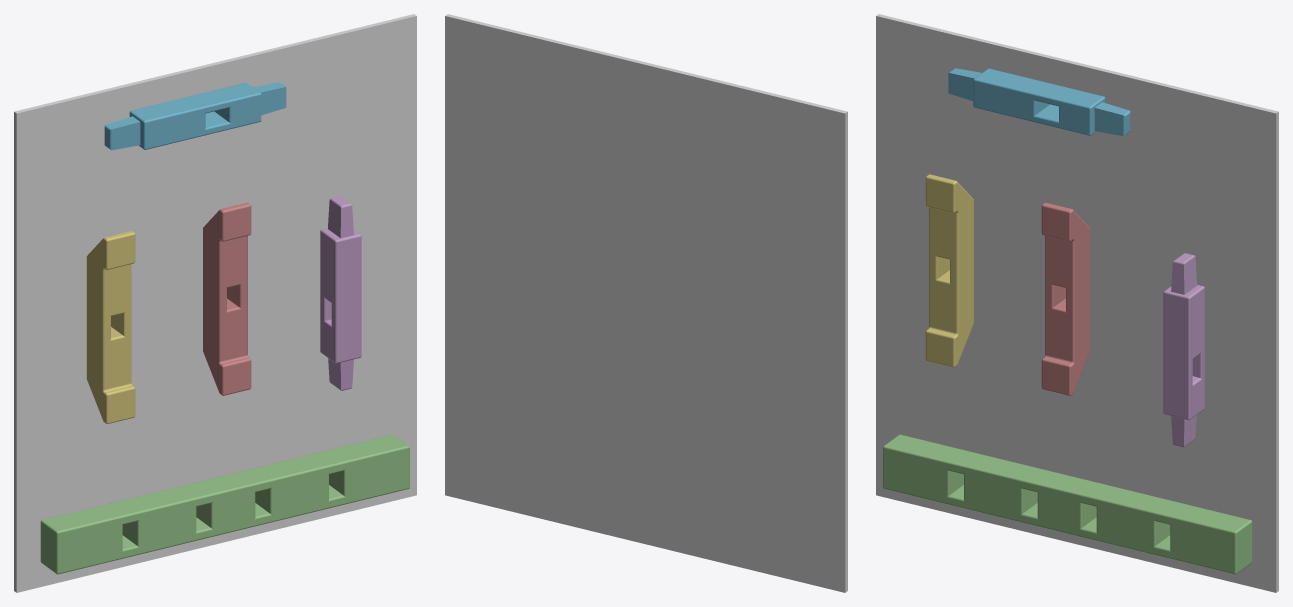
File: pickup_layout.glb
The picture shows the model from 3 angles, left to right: view 1: azimuth 30°, elevation 25°; view 2: azimuth 150°, elevation 25°; view 3: azimuth 330°, elevation 25°; orthographic projection.
Parts seen in each view (by area): view 1: world, 6.obj, 1.obj, 0.obj, 2.obj, 3.obj; view 2: world; view 3: world, 6.obj, 0.obj, 1.obj, 2.obj, 3.obj.
Part boxes in pixels (x1,y1,x2,y2): world: [14, 14, 416, 592]; 6.obj: [40, 434, 409, 574]; 1.obj: [86, 231, 135, 424]; 0.obj: [203, 202, 251, 395]; 2.obj: [104, 82, 286, 150]; 3.obj: [320, 196, 361, 390]; world: [445, 14, 847, 592]; world: [876, 14, 1278, 592]; 6.obj: [883, 434, 1252, 574]; 0.obj: [1041, 202, 1089, 395]; 1.obj: [925, 174, 973, 367]; 2.obj: [948, 68, 1130, 136]; 3.obj: [1163, 253, 1204, 447].
Bounding box in the file's own units: 17.24 × 19.74 × 1.72.
